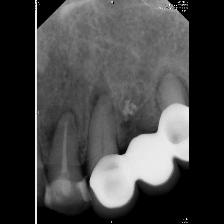apical_lesion: (81, 63, 140, 219), (111, 67, 181, 196), (45, 81, 92, 216)
